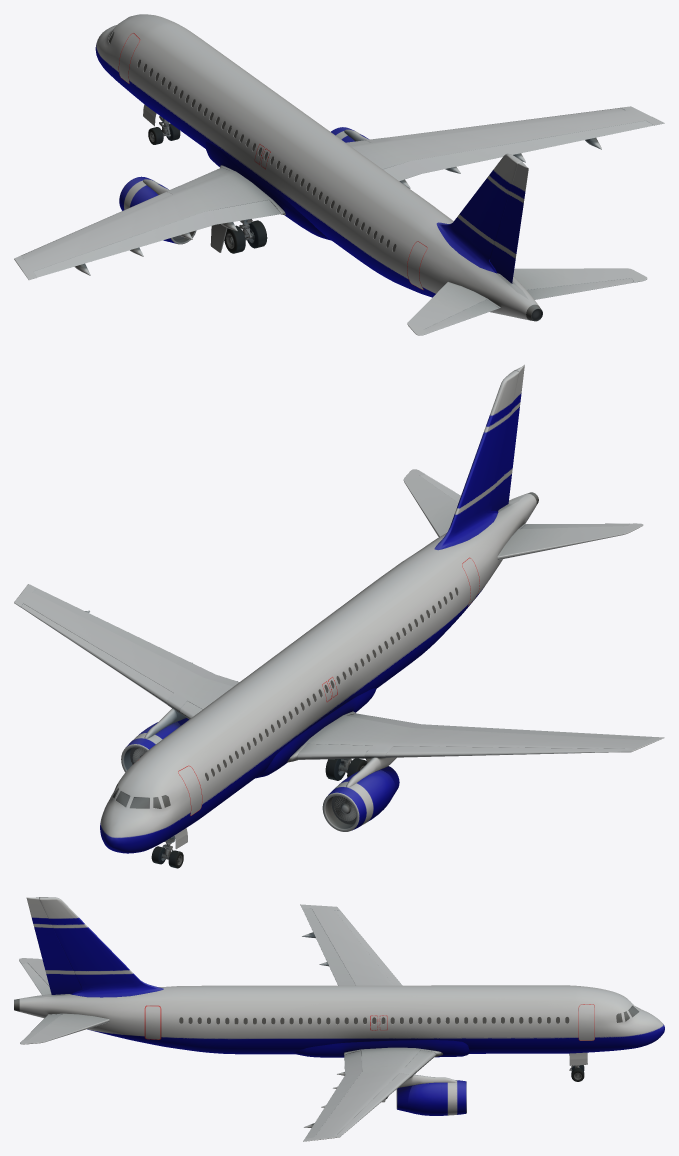
File: CivilianPlaneHighPoly.glb
The picture shows the model from 3 angles, top to bottom: view 1: azimuth 30°, elevation 25°; view 2: azimuth 150°, elevation 25°; view 3: azimuth 270°, elevation 25°; orthographic projection. The views are drawn at different scales.
Parts seen in each view (by area): view 1: node_id30; view 2: node_id30; view 3: node_id30.
Part boxes in pixels (x1=…): node_id30: x1=14, y1=14, x2=664, y2=335; node_id30: x1=14, y1=364, x2=664, y2=868; node_id30: x1=14, y1=897, x2=664, y2=1141.
Size of the model in its own units: 27.3 by 9.71 by 31.64.
1 material, 1 textured.
